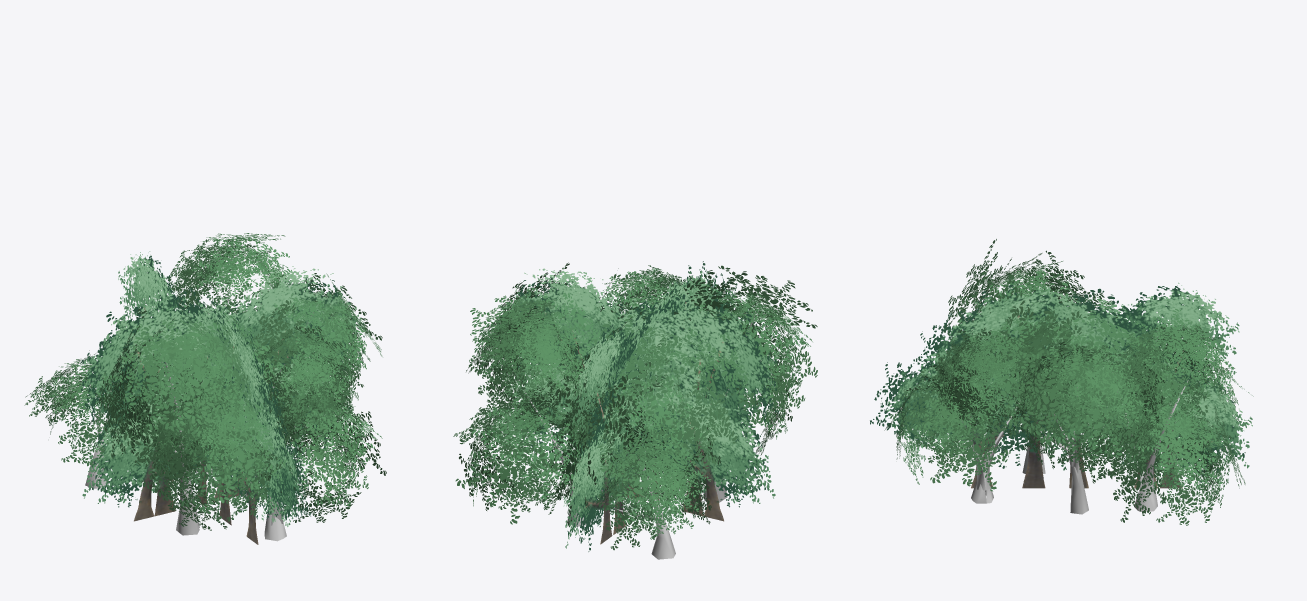
The model's file is BushMidBlend.fbx.
3 renders of one model, left to right at view 1: azimuth 30°, elevation 25°; view 2: azimuth 150°, elevation 25°; view 3: azimuth 270°, elevation 25°, orthographic. The views are drawn at different scales.
Parts seen in each view (by area): view 1: tree.Low; view 2: tree.Low; view 3: tree.Low.
Boxes of the visible parts, box(x1,y1,x2,y2) form: tree.Low: box(24, 233, 386, 544); tree.Low: box(453, 261, 817, 559); tree.Low: box(870, 239, 1253, 525).
Size of the model in its own units: 490 by 496 by 490.
